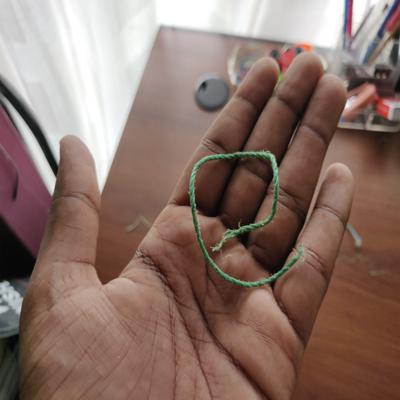thread: (185, 147, 309, 292)
